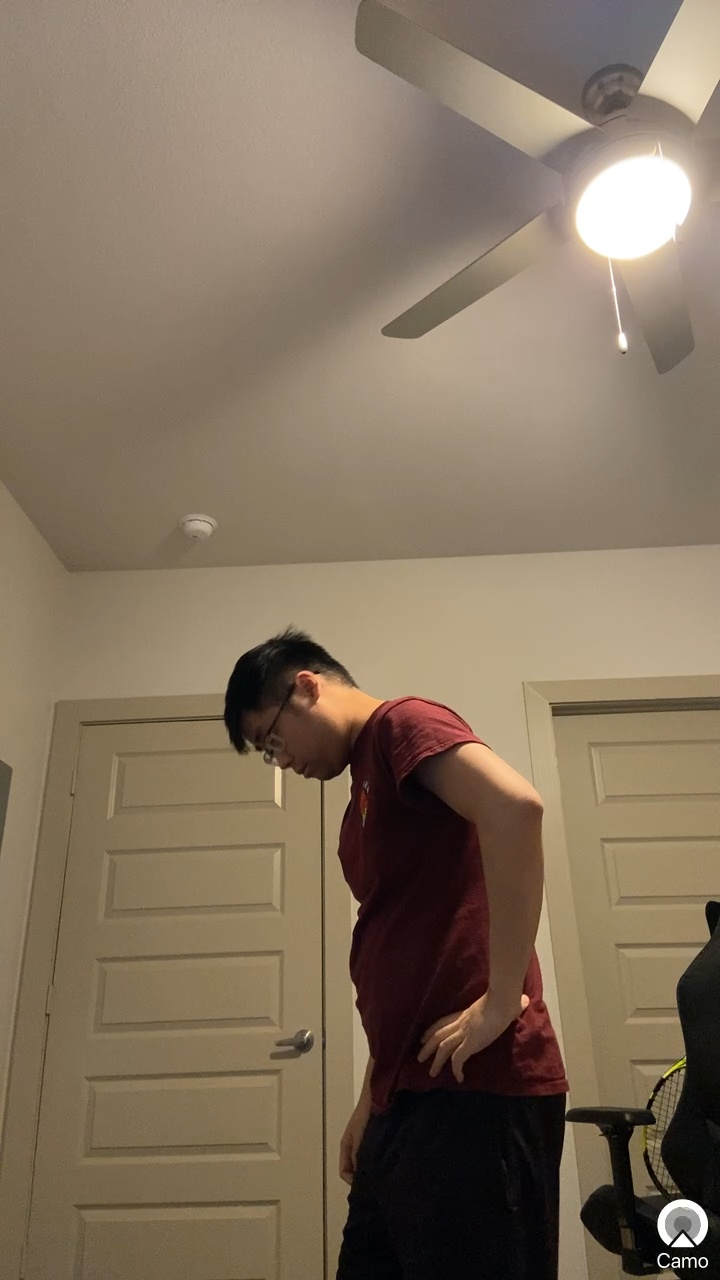Person: (183, 603, 639, 1280)
